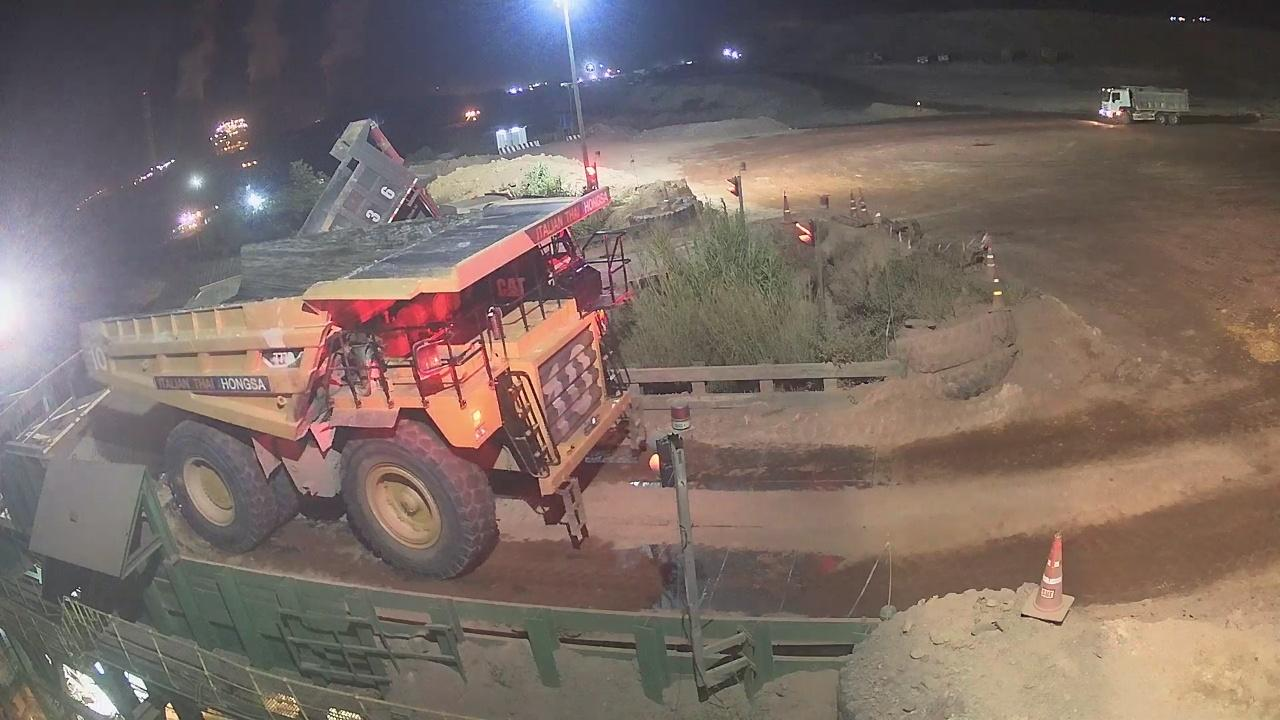company: (148, 368, 286, 400)
empty_load: (174, 178, 466, 313)
front_number: (541, 327, 606, 443)
mining_truck: (75, 158, 647, 581)
tail_number: (86, 339, 113, 380)
truck_size: (253, 339, 314, 371)
